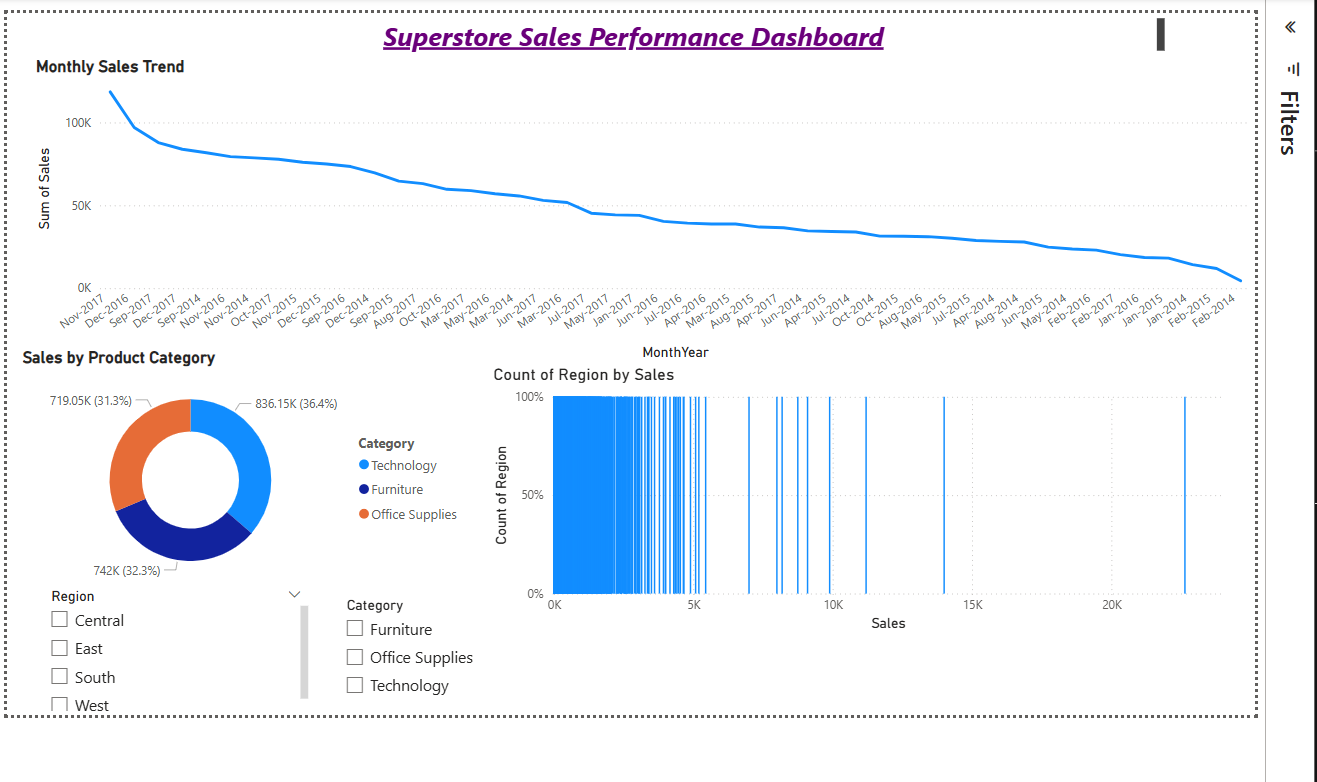

The page's visual inventory and layout, read from the dashboard file:
{"tool":"powerbi","page":{"name":"Page 1","canvas":[1280,720],"ordinal":0},"visuals":[{"type":"lineChart","title":"Monthly Sales Trend","fields":{"Category":["Orders.MonthYear"],"Y":["Sum(Orders.Sales)"]},"box":[24.6,44.6,1255.4,315.4],"z":0},{"type":"donutChart","title":"Sales by Product Category","fields":{"Category":["Orders.Category"],"Y":["Sum(Orders.Sales)"]},"box":[10.8,343.1,464.6,252.3],"z":2000},{"type":"slicer","fields":{"Values":["Orders.Region"]},"box":[32.3,584.6,281.5,135.4],"z":3000},{"type":"slicer","fields":{"Values":["Orders.Category"]},"box":[335.4,593.8,280,115.4],"z":4000},{"type":"hundredPercentStackedColumnChart","fields":{"Category":["Orders.Sales"],"Y":["CountNonNull(Orders.Region)"]},"box":[493.8,360,769.2,278.5],"z":4001},{"type":"textbox","box":[100,0,1092.3,44.6],"z":4002}]}

Visuals, with their boxes in screenshot pixels (x1, y1, x2, y2):
"Monthly Sales Trend" lineChart: (82, 6, 1311, 315)
"Sales by Product Category" donutChart: (69, 298, 524, 545)
slicer - Orders.Region: (90, 534, 365, 667)
slicer - Orders.Category: (387, 543, 661, 656)
hundredPercentStackedColumnChart - Orders.Sales x CountNonNull(Orders.Region): (542, 315, 1294, 587)
textbox: (156, 0, 1225, 6)
